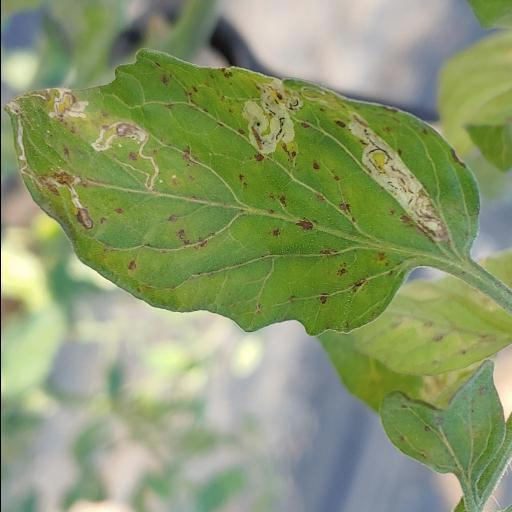disease_tomato: (3, 49, 479, 338)
